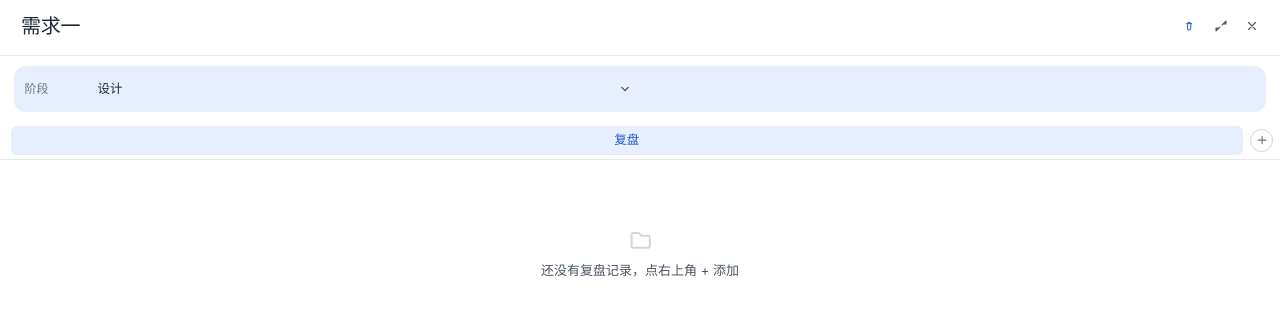
Test: DetailPanel（AC-002/004/005：右栏切换与全屏） › 自定义 Tab 的新建记录入口位于 Tab 栏右侧，点击后显示内容区草稿
Click the button named "新建复盘记录": (1262, 140) [1250,129,1273,152]
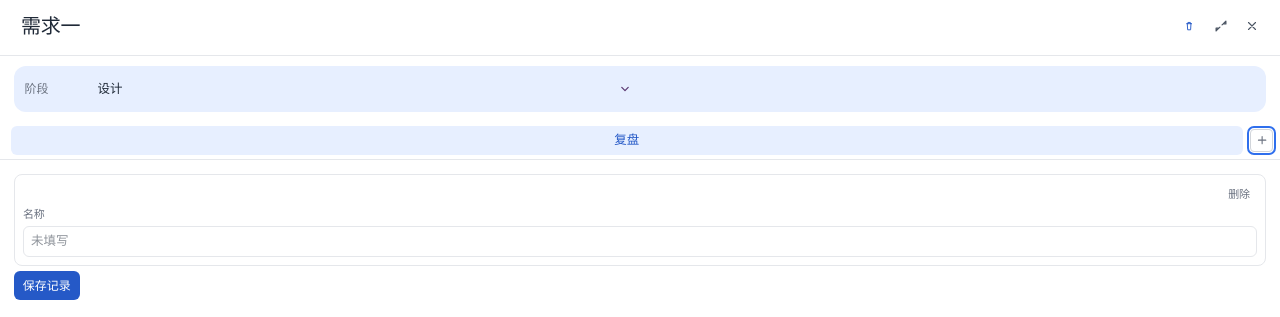
Now the button "保存记录" is shown, box [14,271,80,300]
